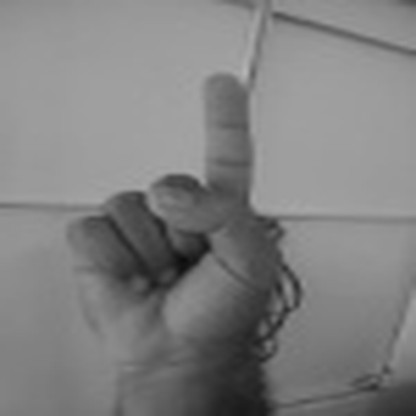d: (55, 68, 282, 364)
